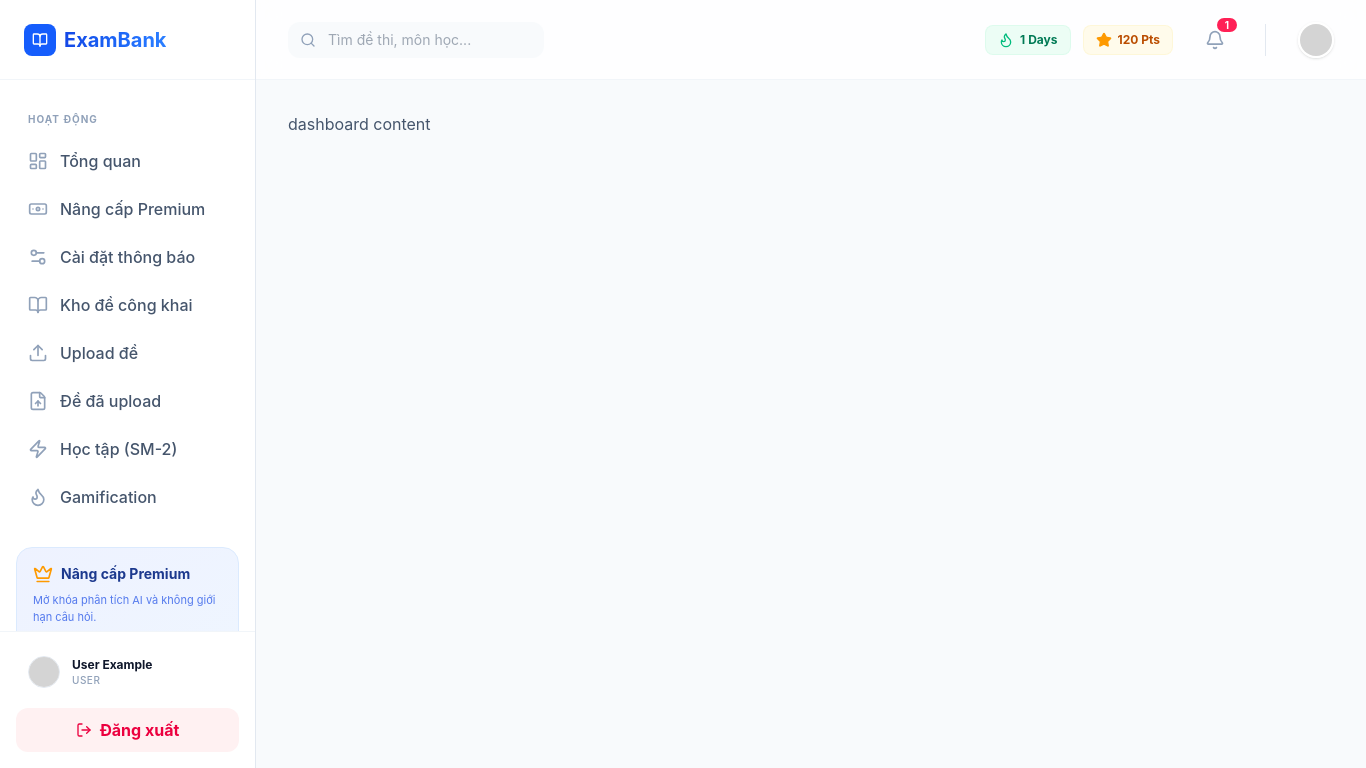
MainLayout notification bell regression › shows new server notification in bell even when old dismissed id exists
Expected: the text "1" is shown, x1=1217 y1=18 x2=1237 y2=32
Expected: the text with id "main-review-bell-badge" reads "1", x1=1225 y1=18 x2=1229 y2=30
Click the button with id "main-review-bell". click: (1215, 40)
box: x1=1197 y1=22 x2=1233 y2=58
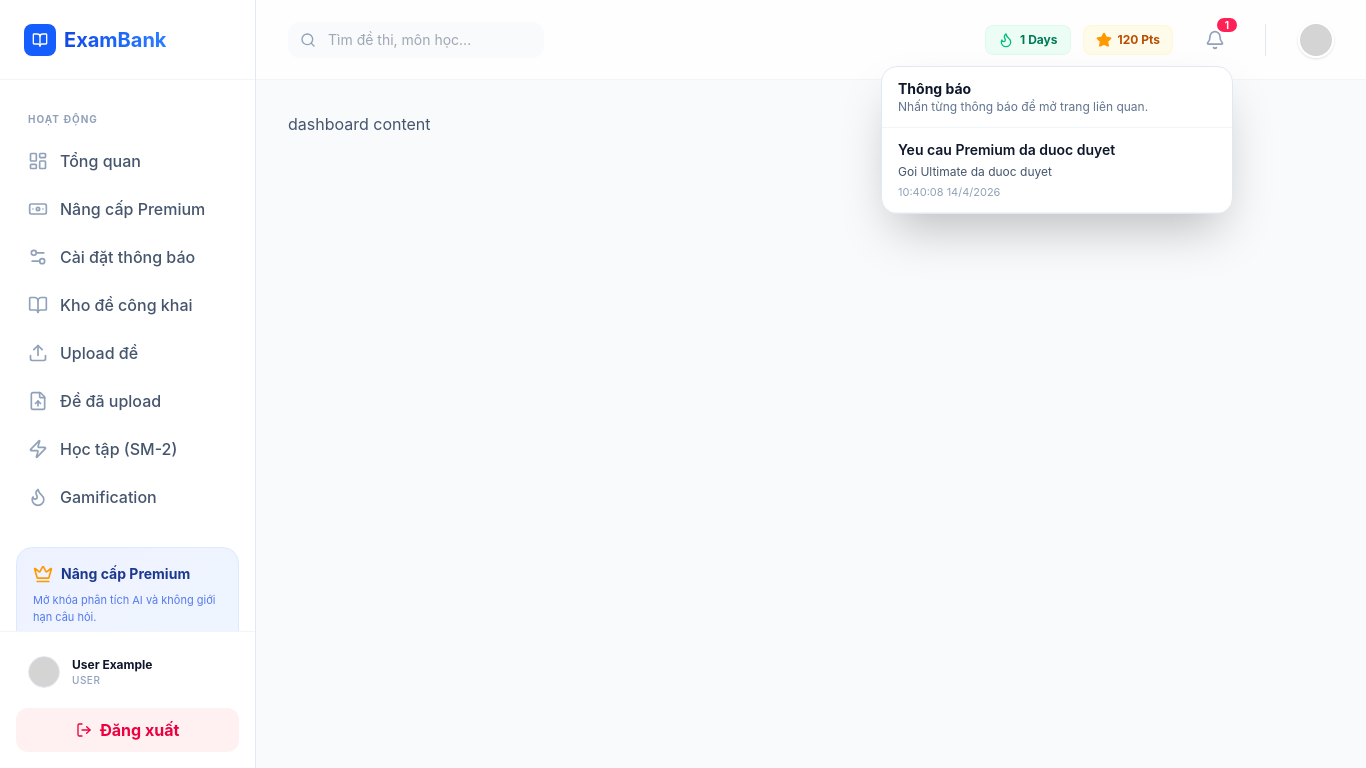
Now the text "Yeu cau Premium da duoc duyet" is shown, box x1=898 y1=140 x2=1115 y2=158
